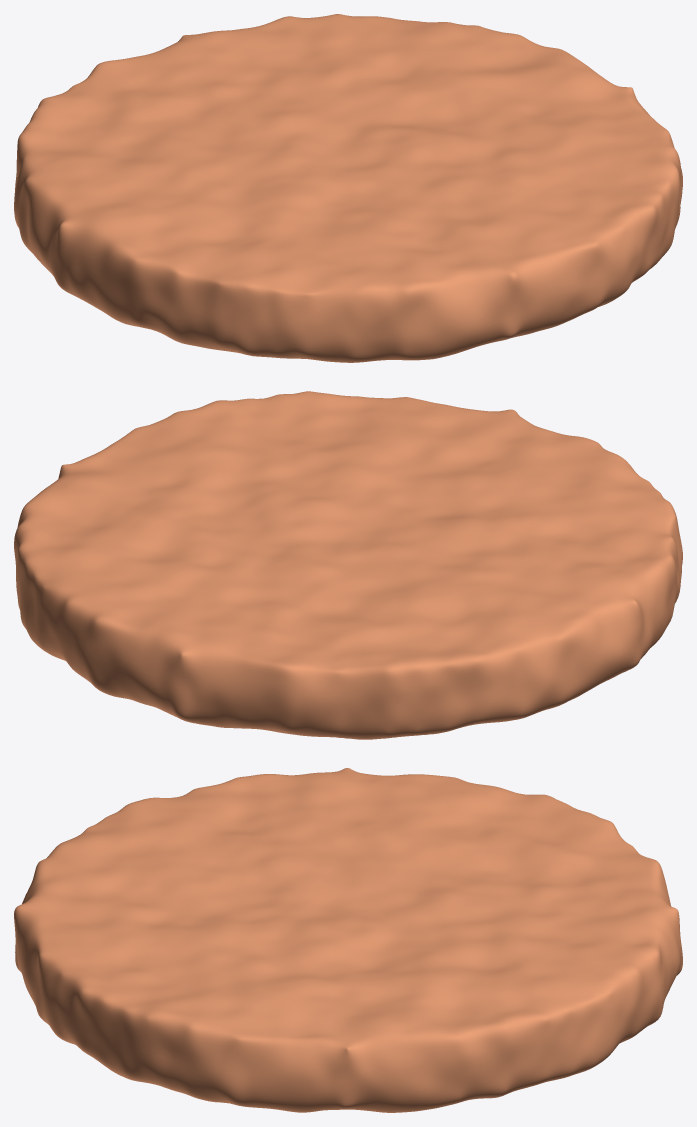
File: Patty.fbx
3 views of the same model, one above another, from view 1: azimuth 30°, elevation 25°; view 2: azimuth 150°, elevation 25°; view 3: azimuth 270°, elevation 25° (orthographic).
Visible parts, largest first — view 1: Patty; view 2: Patty; view 3: Patty.
Boxes of the visible parts, x1,y1,x2,y2 form: Patty: [14, 14, 682, 362]; Patty: [14, 391, 682, 739]; Patty: [14, 768, 682, 1112].
Bounding box in the file's own units: 11.05 × 1.61 × 11.06.
